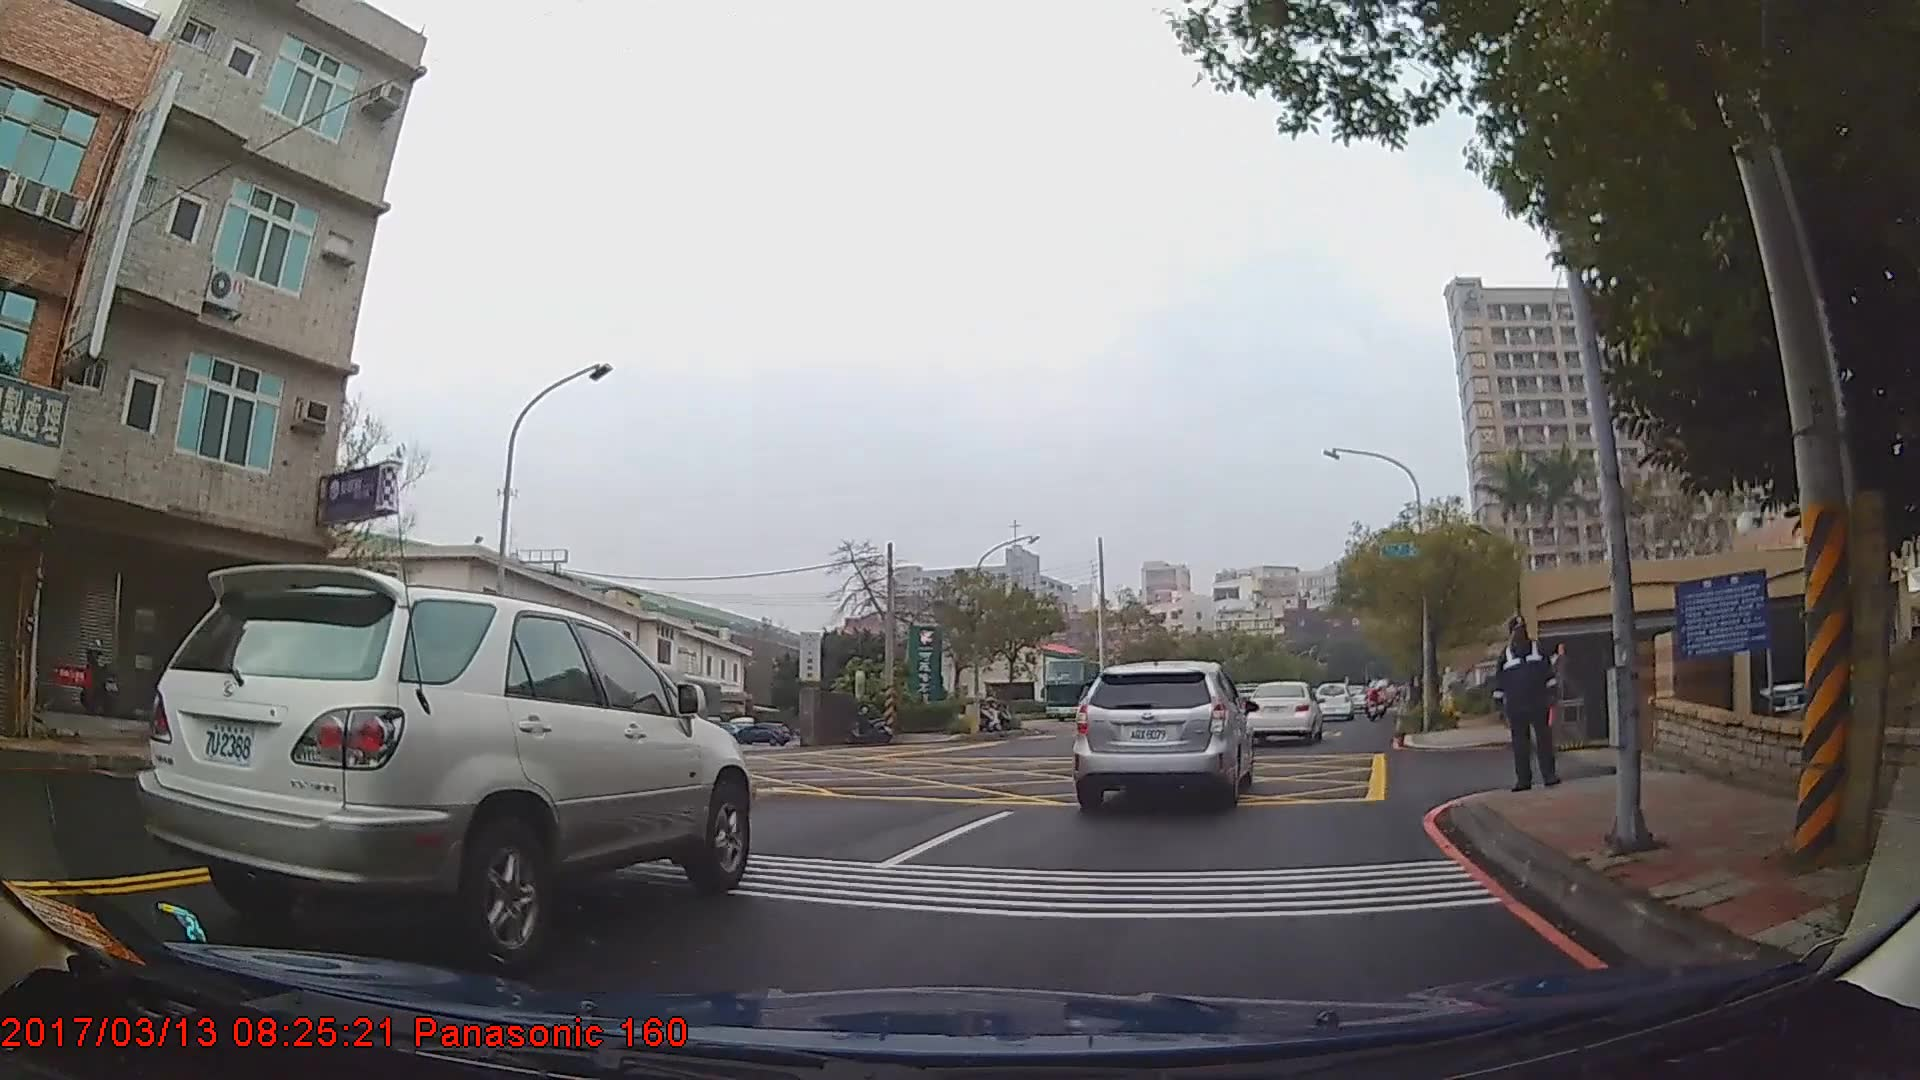pedestrian: (1495, 616, 1562, 794)
vehicle: (135, 564, 753, 971), (1071, 659, 1252, 813), (1241, 681, 1323, 747), (1313, 683, 1354, 725), (732, 723, 792, 745)
